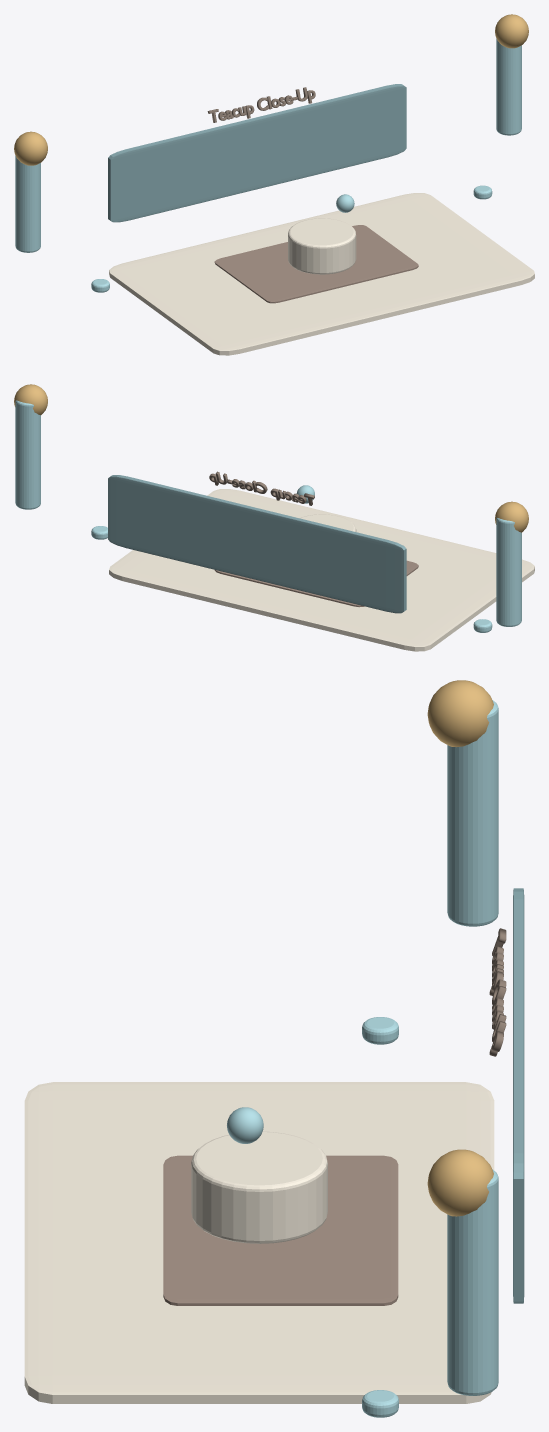
The model's file is 06_cameras.glb.
3 views of the same model, one above another, from view 1: azimuth 30°, elevation 25°; view 2: azimuth 150°, elevation 25°; view 3: azimuth 270°, elevation 25° (orthographic). The views are drawn at different scales.
Parts seen in each view (by area): view 1: PaperFloor-col, BackCard, StageMat, Teacup, PaperLantern, PaperLantern.001, TitleLabel, LanternGlow, LanternGlow.001; view 2: BackCard, PaperFloor-col, PaperLantern.001, PaperLantern, TitleLabel, LanternGlow, LanternGlow.001, StageMat, Teacup; view 3: PaperFloor-col, StageMat, Teacup, PaperLantern, PaperLantern.001, BackCard, LanternGlow.001, LanternGlow, TitleLabel, SteamHeart, CardConfetti, CardConfetti.001.
Part boxes in pixels (box(x1,y1,x2,y2)): PaperFloor-col: box(109, 193, 534, 355); BackCard: box(108, 84, 406, 222); StageMat: box(214, 225, 418, 303); Teacup: box(288, 218, 356, 274); PaperLantern: box(15, 155, 40, 252); PaperLantern.001: box(496, 38, 521, 135); TitleLabel: box(207, 87, 315, 122); LanternGlow: box(14, 131, 47, 165); LanternGlow.001: box(495, 14, 528, 48); BackCard: box(108, 475, 406, 613); PaperFloor-col: box(109, 489, 534, 651); PaperLantern.001: box(15, 400, 40, 509); PaperLantern: box(496, 518, 521, 626); TitleLabel: box(209, 471, 314, 505); LanternGlow: box(495, 501, 528, 532); LanternGlow.001: box(14, 384, 47, 415); StageMat: box(214, 560, 418, 607); Teacup: box(300, 514, 356, 531); PaperFloor-col: box(24, 1082, 494, 1403); StageMat: box(163, 1155, 398, 1305); Teacup: box(191, 1131, 327, 1243); PaperLantern: box(447, 700, 498, 926); PaperLantern.001: box(447, 1169, 498, 1395); BackCard: box(513, 888, 524, 1303); LanternGlow.001: box(427, 1149, 493, 1216); LanternGlow: box(427, 680, 493, 747); TitleLabel: box(489, 928, 506, 1056); SteamHeart: box(227, 1107, 263, 1143); CardConfetti: box(362, 1017, 398, 1044); CardConfetti.001: box(362, 1390, 398, 1417).
Size of the model in its own units: 8.28 by 2.56 by 3.51.
